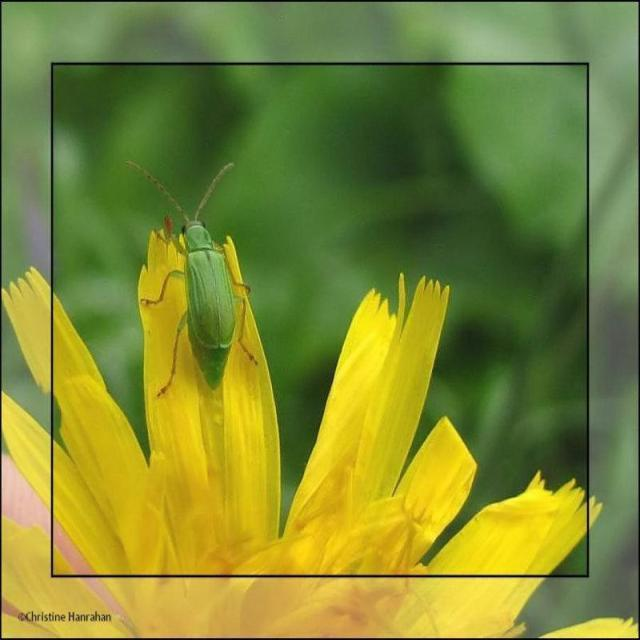gusano_gris: (129, 163, 265, 390)
